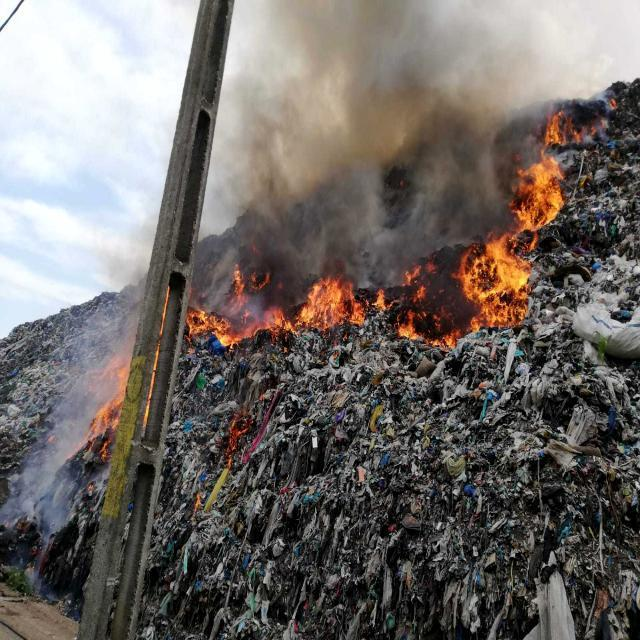Fire: (463, 118, 568, 334), (192, 274, 394, 358)
Smoke: (208, 0, 548, 260), (34, 296, 128, 509)
